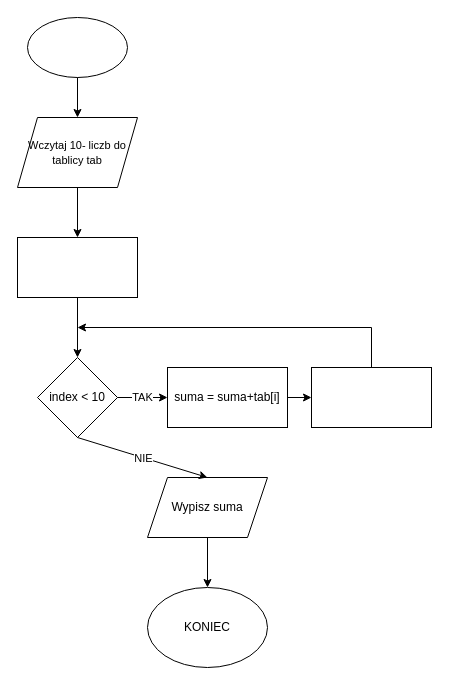
Some shapes in this 449 by 685 pixel diagram are drawn without their labels. Here are the shapes that lost their labels. From the top down, the box of each, then its label:
(26, 16, 128, 78): START
(16, 236, 138, 298): suma = 0 index = 0
(310, 366, 432, 428): index = index +1
